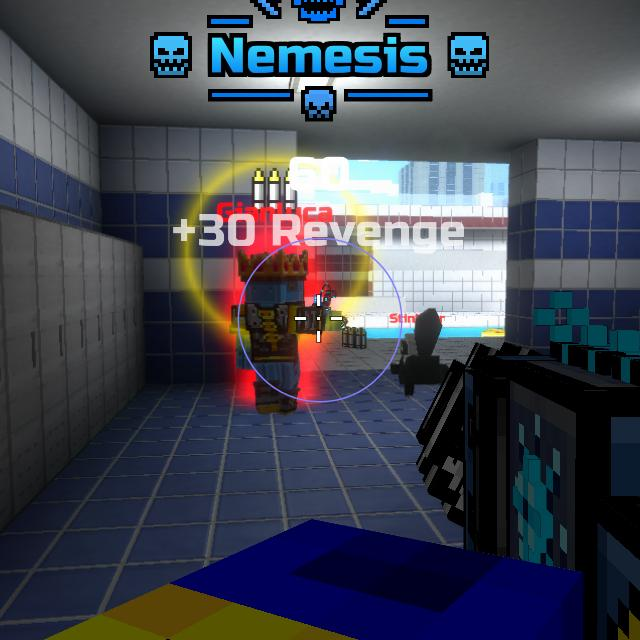Enemy: (230, 252, 318, 417)
